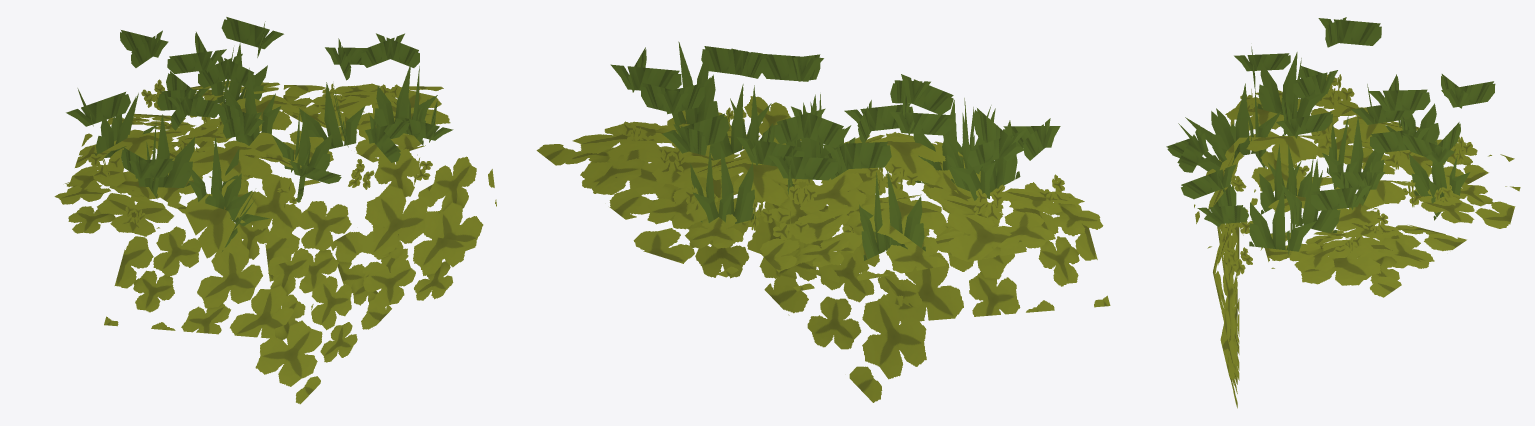
Rendered from SM_Env_Ground_Cover_08.fbx.
3 renders of one model, left to right at view 1: azimuth 30°, elevation 25°; view 2: azimuth 150°, elevation 25°; view 3: azimuth 270°, elevation 25°, orthographic. The views are drawn at different scales.
Visible parts, largest first — view 1: SM_Env_Ground_Cover_08; view 2: SM_Env_Ground_Cover_08; view 3: SM_Env_Ground_Cover_08.
Boxes of the visible parts, x1,y1,x2,y2 form: SM_Env_Ground_Cover_08: (54,17,496,404); SM_Env_Ground_Cover_08: (536,41,1110,402); SM_Env_Ground_Cover_08: (1166,17,1520,408).
Size of the model in its own units: 273 by 187 by 192.
